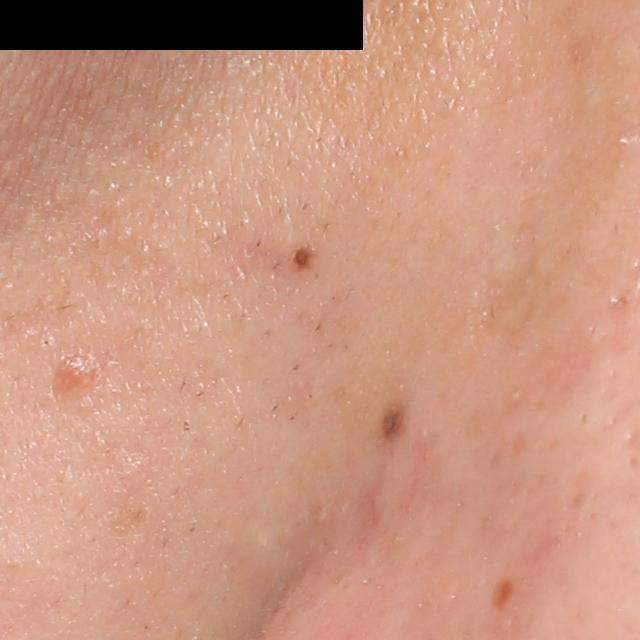comedo: (39, 334, 58, 350)
nevus: (378, 398, 411, 443), (492, 575, 515, 611), (291, 242, 311, 269)
papule: (48, 352, 105, 399)
